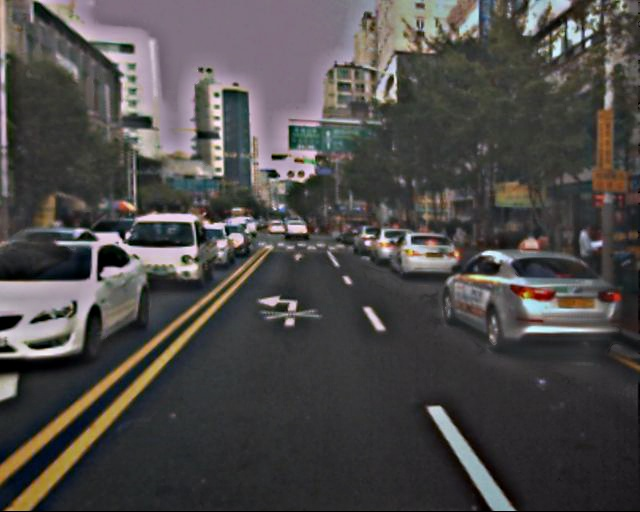person: (568, 222, 600, 299)
